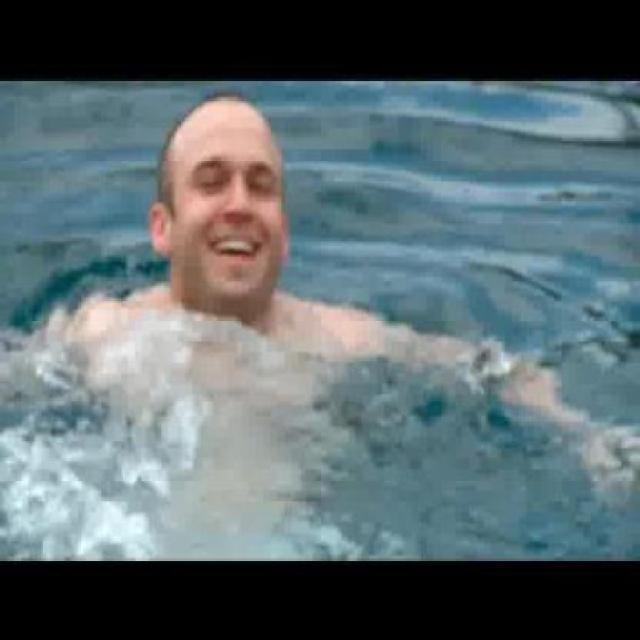drowning: (101, 80, 349, 384)
